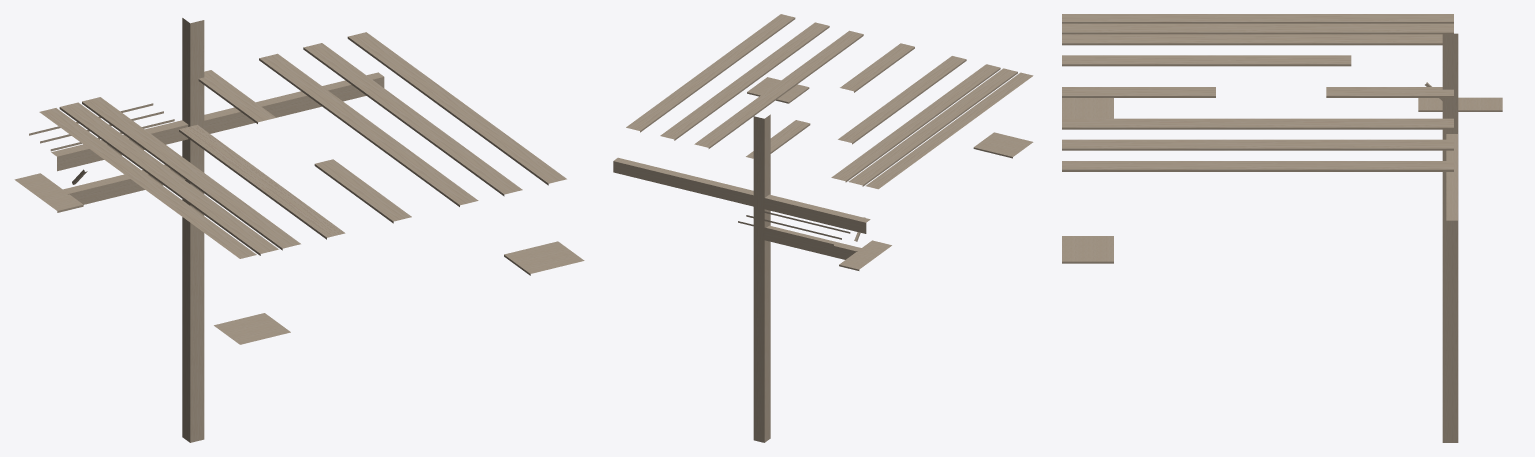
Rendered from kd_stage_135b75_4_18_bounded_portal.glb.
3 renders of one model, left to right at view 1: azimuth 30°, elevation 25°; view 2: azimuth 150°, elevation 25°; view 3: azimuth 270°, elevation 25°, orthographic. The views are drawn at different scales.
Parts seen in each view (by area): view 1: kd_stage_135b75_4_18_bounded_portal; view 2: kd_stage_135b75_4_18_bounded_portal; view 3: kd_stage_135b75_4_18_bounded_portal.
Boxes of the visible parts, box(x1,y1,x2,y2) form: kd_stage_135b75_4_18_bounded_portal: box(14, 18, 584, 442); kd_stage_135b75_4_18_bounded_portal: box(613, 14, 1033, 442); kd_stage_135b75_4_18_bounded_portal: box(1062, 14, 1502, 442).
Size of the model in its own units: 3.7 by 4.3 by 4.37.
1 material, 1 textured.
